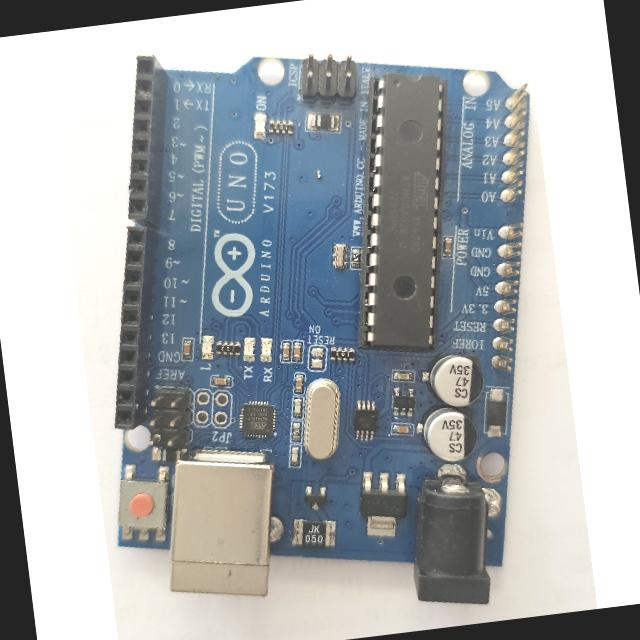missing_analog_pins: (485, 79, 531, 377)
